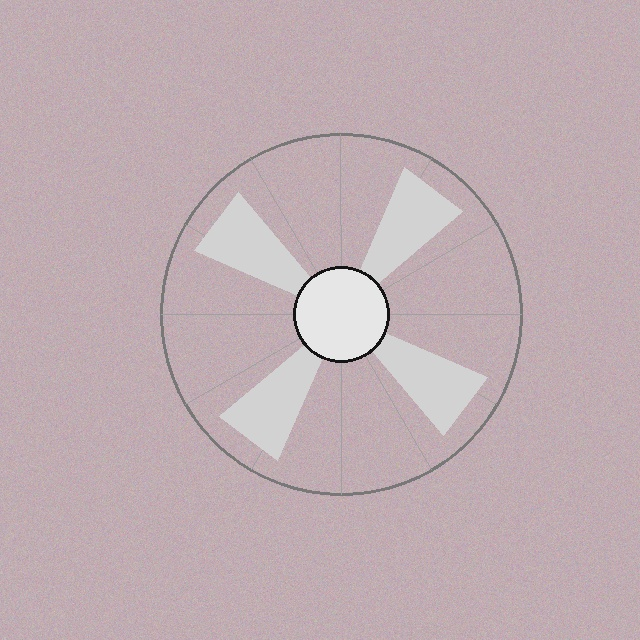fan: (156, 129, 526, 499)
